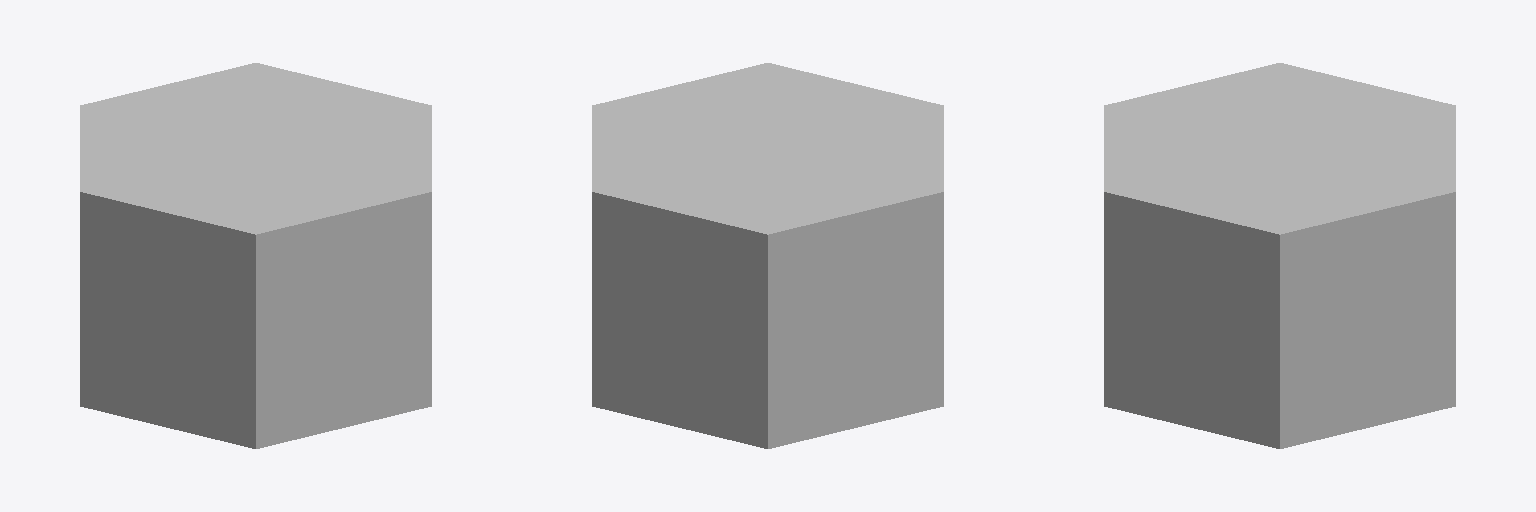
File: hex.obj
3 renders of one model, left to right at view 1: azimuth 30°, elevation 25°; view 2: azimuth 150°, elevation 25°; view 3: azimuth 270°, elevation 25°, orthographic.
Visible parts, largest first — view 1: Cylinder001; view 2: Cylinder001; view 3: Cylinder001.
Boxes of the visible parts, <box> form: Cylinder001: <box>80,63,431,448</box>; Cylinder001: <box>592,63,943,448</box>; Cylinder001: <box>1104,63,1455,448</box>.
Size of the model in its own units: 69.37 by 40.37 by 60.08.